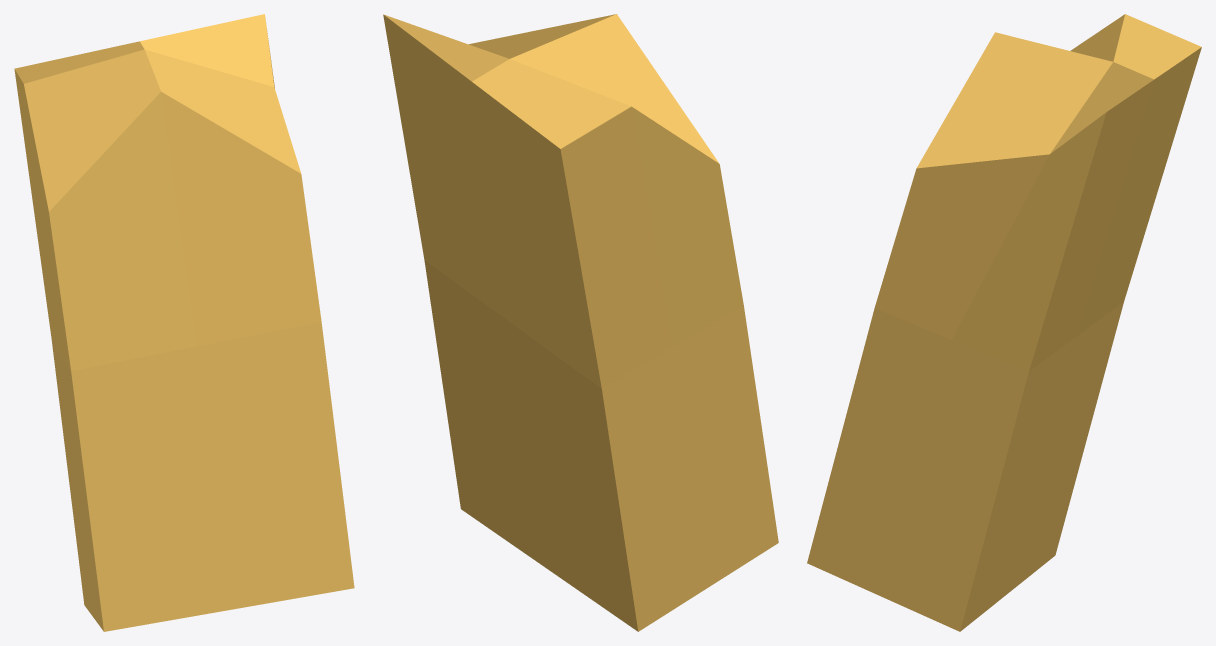
The model's file is Boat skeleton broken column9.fbx.
3 renders of one model, left to right at view 1: azimuth 30°, elevation 25°; view 2: azimuth 150°, elevation 25°; view 3: azimuth 270°, elevation 25°, orthographic. The views are drawn at different scales.
Visible parts, largest first — view 1: Broken columns.008; view 2: Broken columns.008; view 3: Broken columns.008.
Part boxes in pixels (x1=…): Broken columns.008: x1=14, y1=14, x2=354, y2=631; Broken columns.008: x1=383, y1=14, x2=778, y2=631; Broken columns.008: x1=807, y1=14, x2=1201, y2=631.
Bounding box in the file's own units: 5.5 × 10.61 × 6.93.
